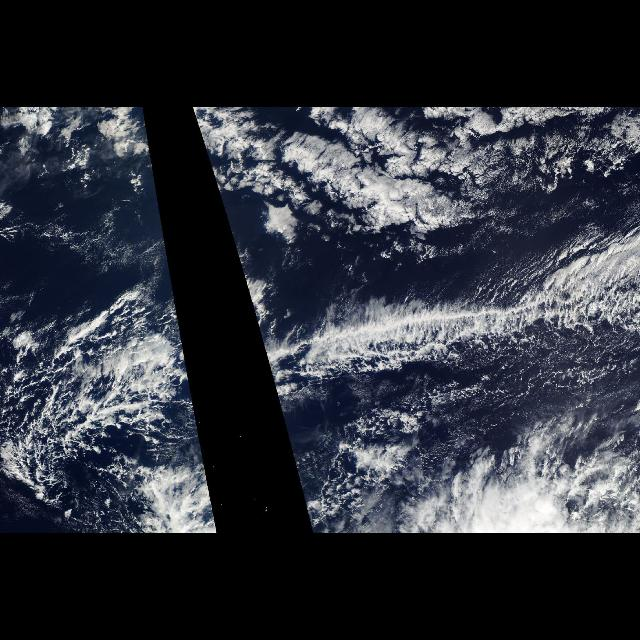Fish: (225, 218, 639, 492), (6, 218, 210, 492)
Flower: (190, 108, 640, 242), (12, 108, 166, 242)
